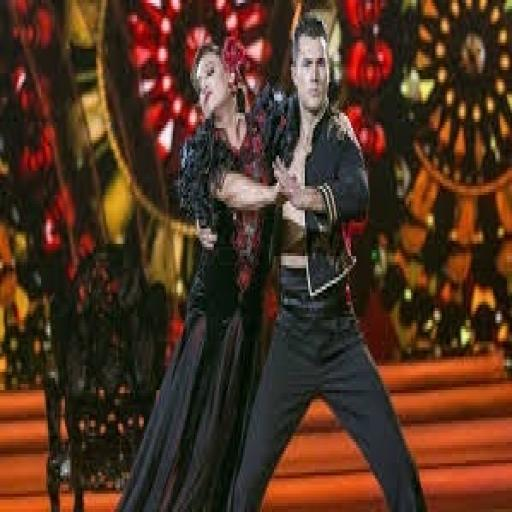dancing: (209, 9, 430, 509)
